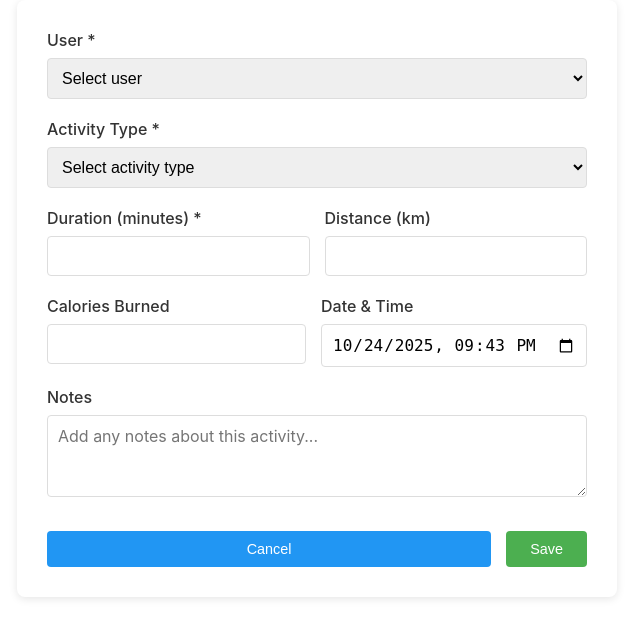
it: ActivityForm Component › should show validation error for empty duration
Step 1. Select "John Doe" in the dropdown labelled "User *" → (317, 78), box [47, 58, 587, 99]
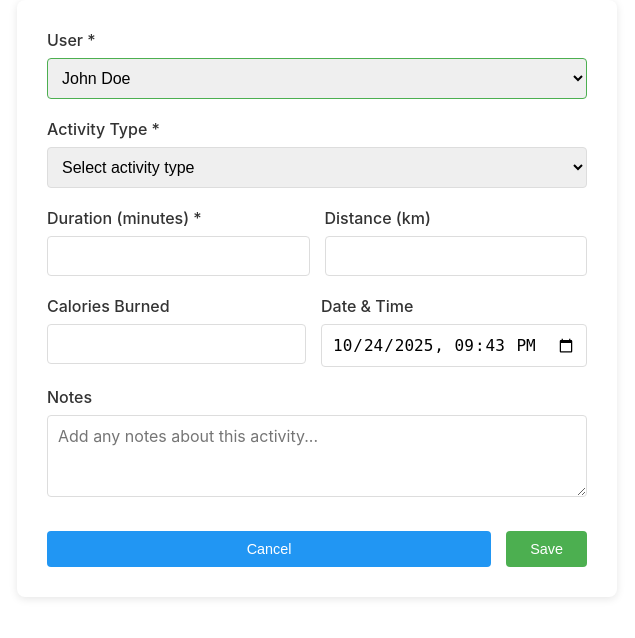
Step 2. Select "Running" in the dropdown labelled "Activity Type *" → (317, 168), box [47, 147, 587, 188]
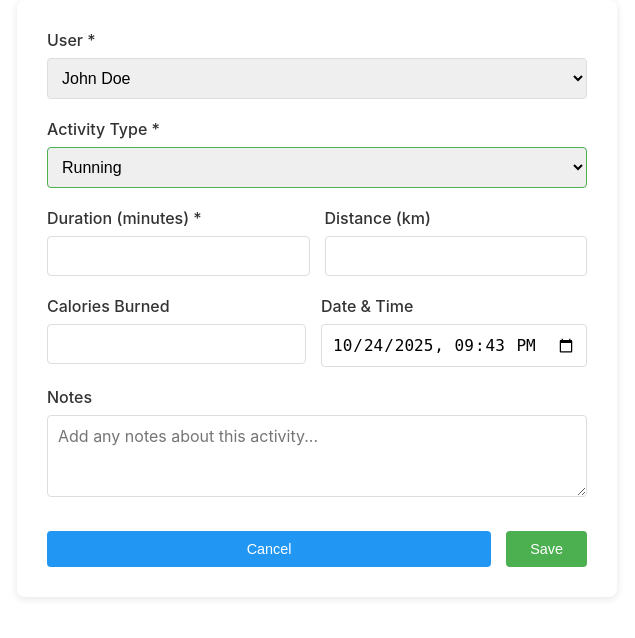
Step 3. Click the button "Save" → (547, 549), box [506, 531, 587, 567]
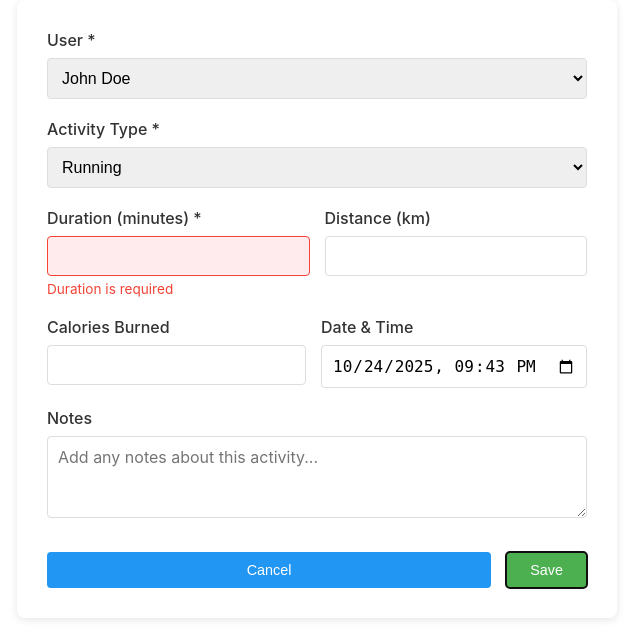
Now the text "Duration is required" is shown, box [47, 281, 173, 297]
